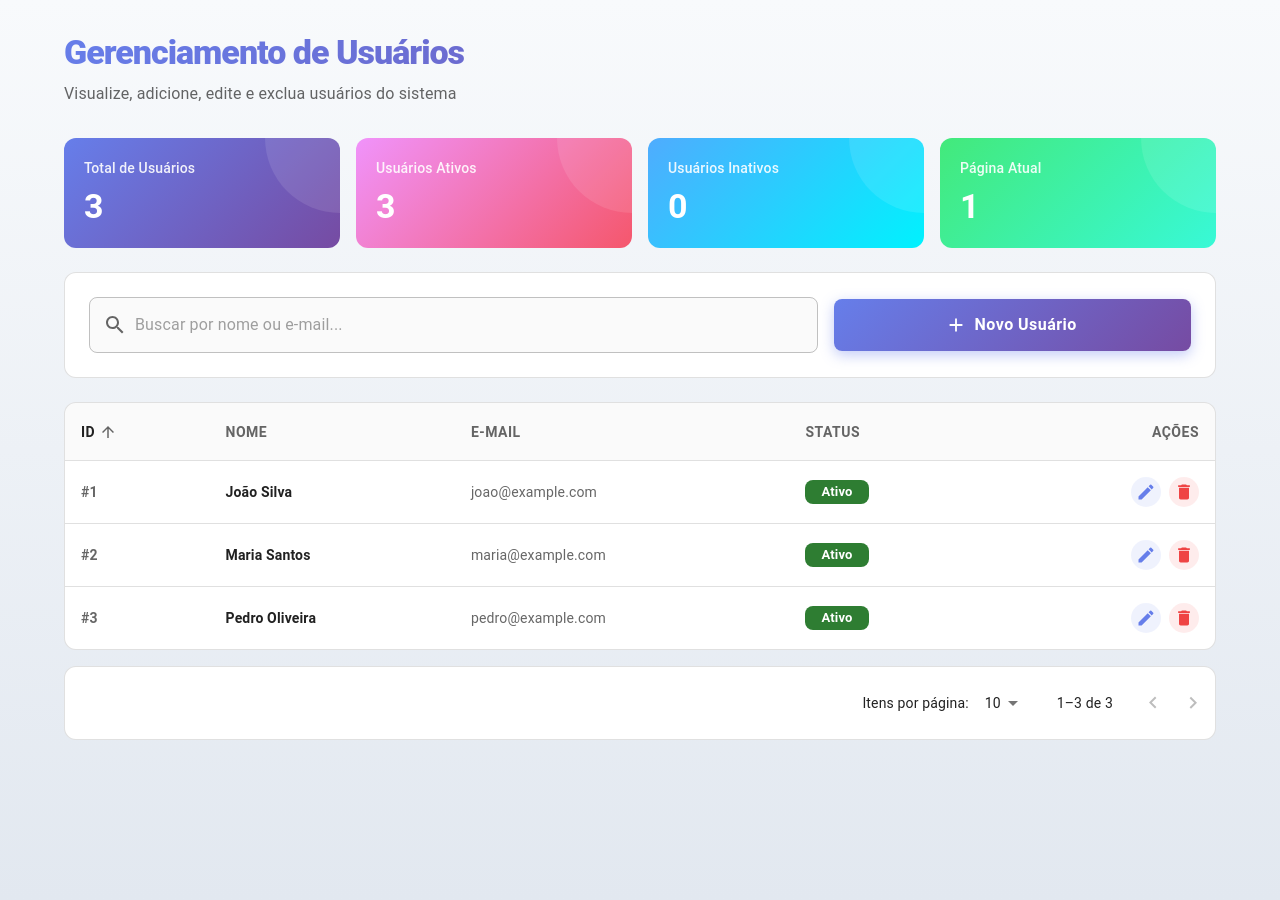
Users - Integration Test › deve abrir modal de edição ao clicar no botão editar
The width and height of the screenshot is (1280, 900).
Check: the text "João Silva" is shown, box [210, 461, 455, 524]
Encontrar e clicar no primeiro botão de editar
Click the button named "editar usuário": (1146, 492) [1131, 477, 1161, 507]
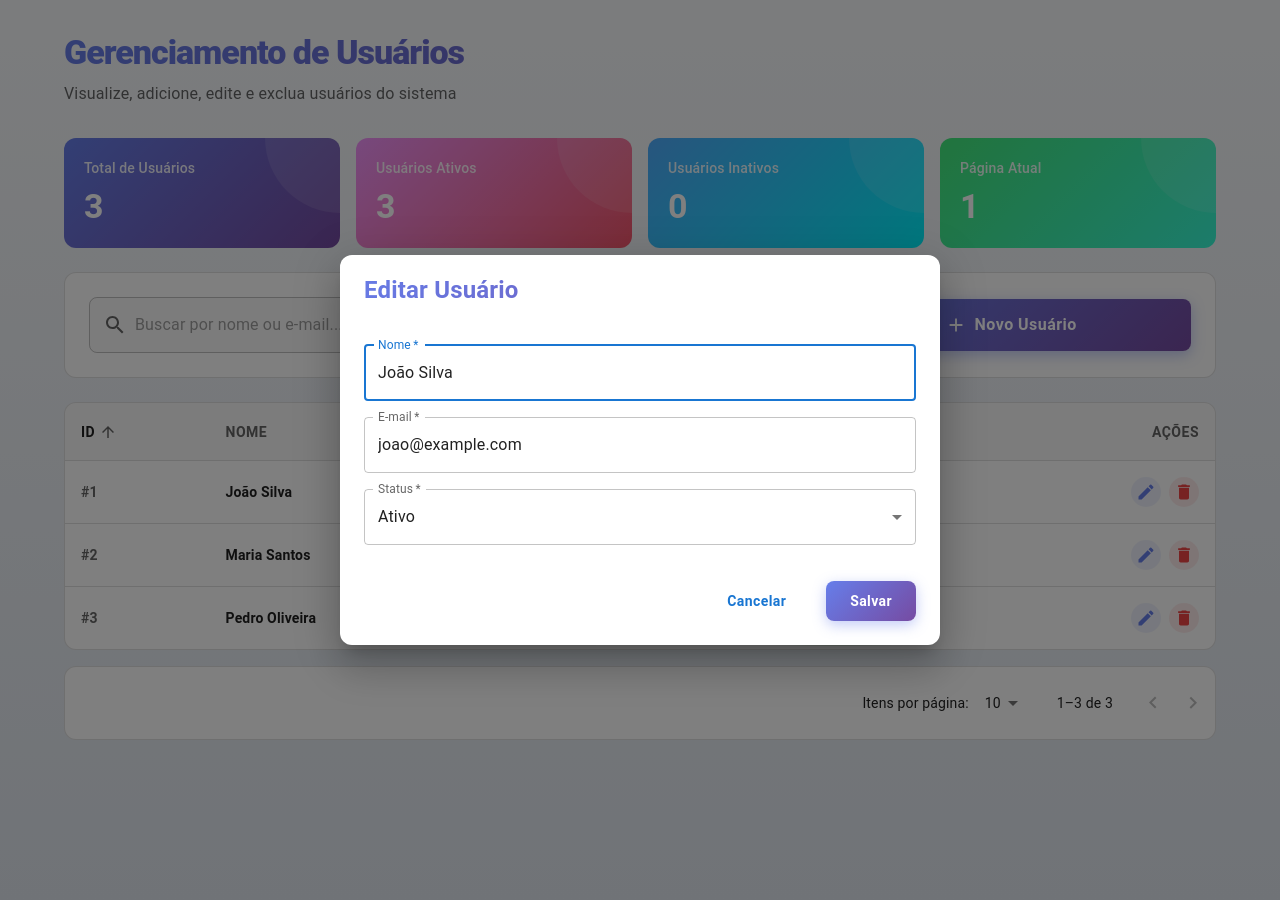
Check: the dialog is shown, box [340, 254, 940, 645]
Check: the field showing "João Silva" is shown, box [364, 345, 916, 401]
